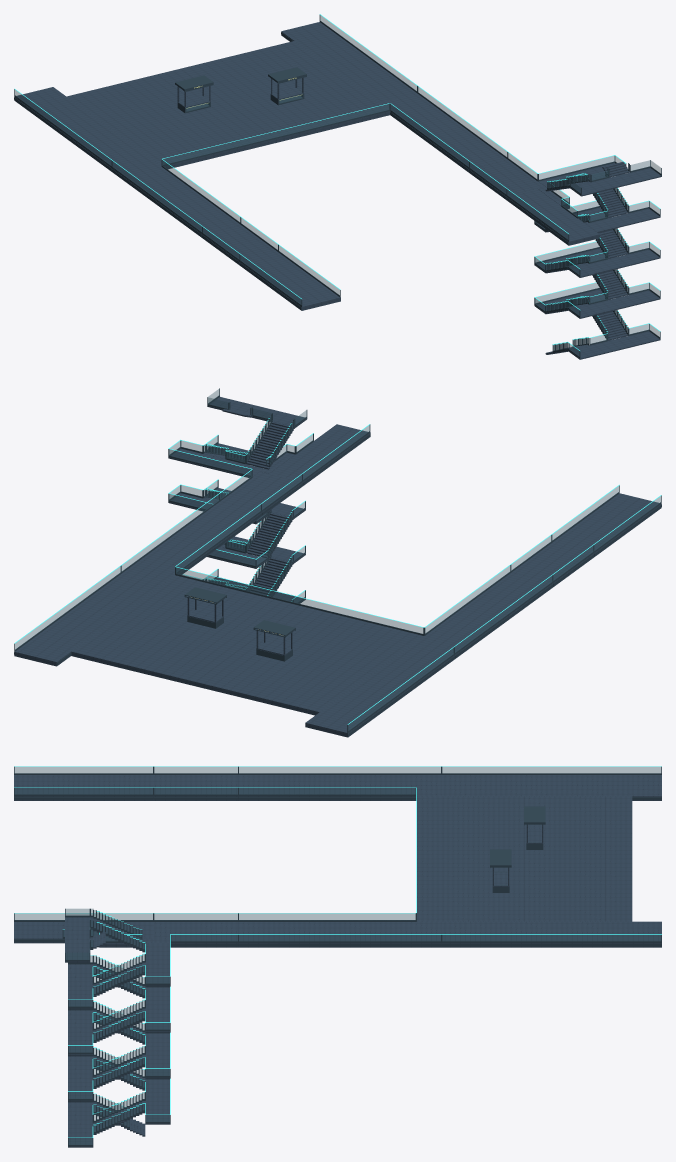
The model's file is v02-detailed-00-06-coffered.glb.
3 views of the same model, one above another, from view 1: azimuth 30°, elevation 25°; view 2: azimuth 150°, elevation 25°; view 3: azimuth 270°, elevation 25° (orthographic). The views are drawn at different scales.
Parts seen in each view (by area): view 1: v02-detailed-00-06-coffered; view 2: v02-detailed-00-06-coffered; view 3: v02-detailed-00-06-coffered.
Part boxes in pixels (x1,y1,x2,y2): v02-detailed-00-06-coffered: (14,14,661,359); v02-detailed-00-06-coffered: (14,388,661,737); v02-detailed-00-06-coffered: (14,766,661,1147).
Size of the model in its own units: 58.85 by 28.39 by 76.5.
5 materials, 1 textured.
